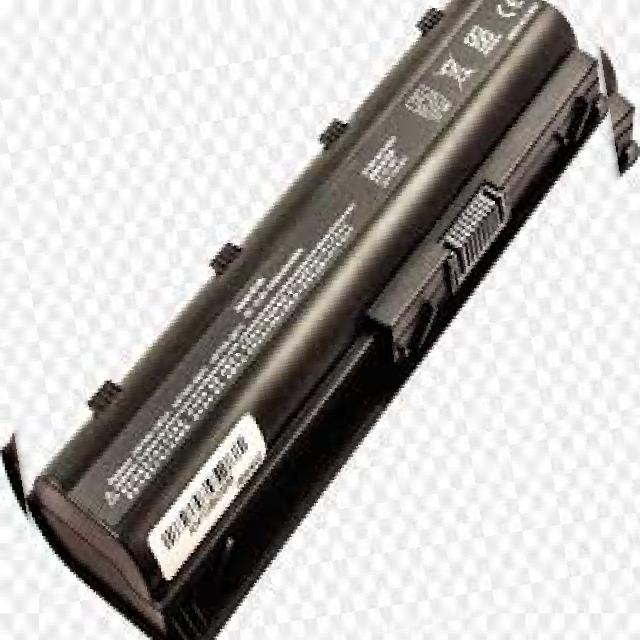Battery: (21, 0, 610, 639)
